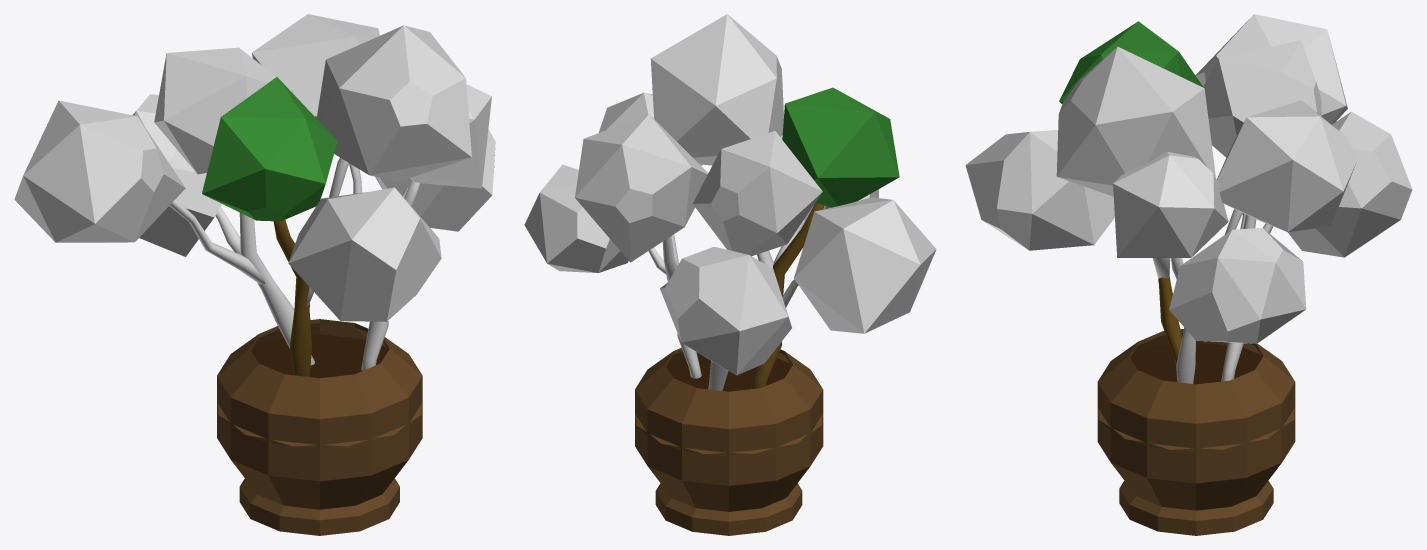
Rendered from Pot.fbx.
3 renders of one model, left to right at view 1: azimuth 30°, elevation 25°; view 2: azimuth 150°, elevation 25°; view 3: azimuth 270°, elevation 25°, orthographic. The views are drawn at different scales.
Parts seen in each view (by area): view 1: Pot, Pot_16, Pot_15, Pot_18, Pot_14, Pot_13, Pot_5, Pot_17, Pot_6, Pot_4, Pot_8, Pot_7 (+2 smaller); view 2: Pot, Pot_16, Pot_15, Pot_5, Pot_17, Pot_13, Pot_14, Pot_6, Pot_8, Pot_4, Pot_1; view 3: Pot, Pot_16, Pot_5, Pot_6, Pot_18, Pot_4, Pot_17, Pot_13, Pot_15, Pot_14, Pot_8, Pot_1 (+1 smaller).
Part boxes in pixels (bbox=[...]): Pot: bbox=[217, 319, 422, 535]; Pot_16: bbox=[316, 25, 471, 181]; Pot_15: bbox=[14, 100, 185, 242]; Pot_18: bbox=[288, 187, 441, 321]; Pot_14: bbox=[202, 77, 337, 221]; Pot_13: bbox=[154, 47, 293, 174]; Pot_5: bbox=[252, 14, 379, 117]; Pot_17: bbox=[132, 94, 221, 256]; Pot_6: bbox=[375, 129, 495, 231]; Pot_4: bbox=[410, 84, 491, 188]; Pot_8: bbox=[273, 220, 311, 376]; Pot_7: bbox=[239, 213, 314, 365]; Pot: bbox=[635, 348, 823, 535]; Pot_16: bbox=[650, 14, 783, 165]; Pot_15: bbox=[794, 197, 936, 333]; Pot_5: bbox=[575, 114, 708, 262]; Pot_17: bbox=[660, 246, 791, 375]; Pot_13: bbox=[693, 131, 822, 256]; Pot_14: bbox=[782, 87, 899, 207]; Pot_6: bbox=[524, 164, 628, 272]; Pot_8: bbox=[751, 203, 824, 389]; Pot_4: bbox=[598, 92, 702, 165]; Pot_1: bbox=[671, 234, 701, 378]; Pot: bbox=[1097, 329, 1295, 535]; Pot_16: bbox=[1056, 46, 1215, 196]; Pot_5: bbox=[1217, 100, 1357, 232]; Pot_6: bbox=[1169, 228, 1306, 343]; Pot_18: bbox=[965, 130, 1114, 250]; Pot_4: bbox=[1113, 151, 1228, 257]; Pot_17: bbox=[1288, 111, 1412, 257]; Pot_13: bbox=[1203, 40, 1321, 157]; Pot_15: bbox=[1195, 14, 1347, 124]; Pot_14: bbox=[1059, 21, 1202, 103]; Pot_8: bbox=[1158, 276, 1182, 366]; Pot_1: bbox=[1171, 258, 1195, 383].
Bounding box in the file's own units: 3.21 × 2.91 × 3.43.
